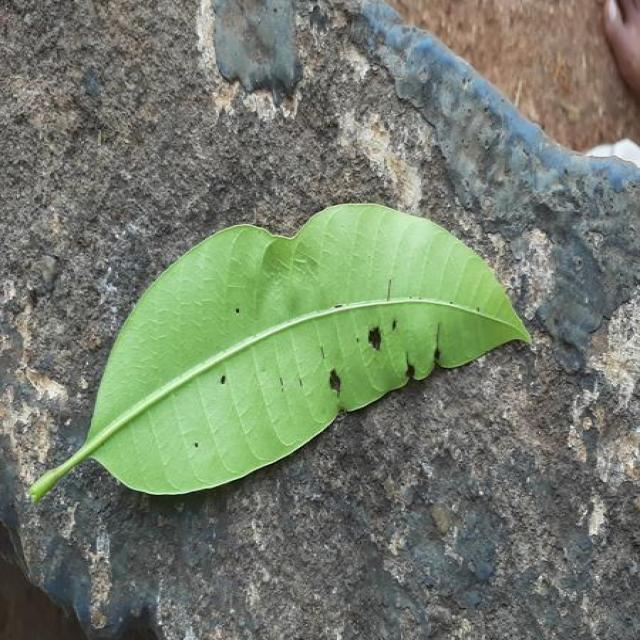Anthracnose: (193, 298, 487, 443)
mango: (28, 204, 528, 502)
